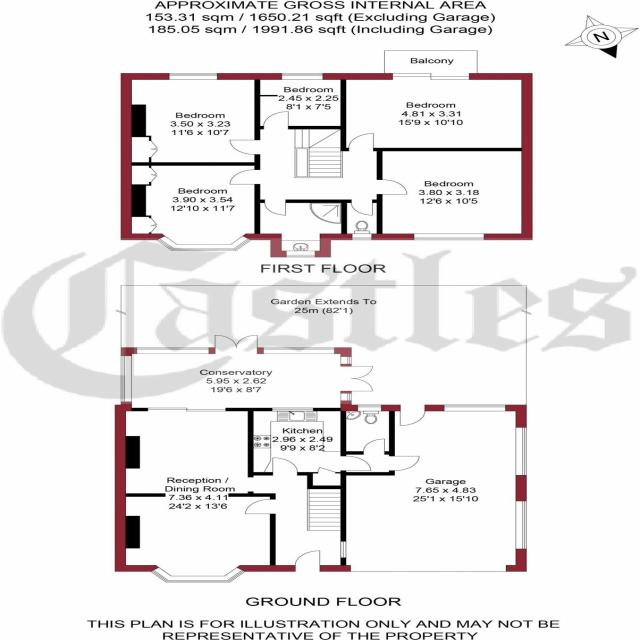DOOR: (398, 404, 429, 427), (293, 550, 322, 573), (227, 138, 262, 157), (374, 178, 409, 196), (227, 168, 262, 185), (262, 110, 291, 130), (339, 455, 373, 472), (243, 498, 277, 515), (387, 455, 421, 472), (348, 132, 376, 152), (272, 456, 299, 476), (348, 198, 375, 217), (263, 198, 288, 217), (361, 438, 387, 455), (317, 466, 338, 475)
ROOM: (113, 407, 277, 584), (339, 73, 534, 153), (375, 147, 535, 241), (117, 161, 262, 252), (120, 73, 261, 166), (247, 407, 348, 476), (254, 73, 347, 130)
WINDOW: (513, 426, 529, 477), (133, 345, 212, 355), (119, 354, 134, 403), (259, 346, 339, 355), (514, 501, 528, 550), (170, 243, 238, 252), (412, 233, 486, 241), (164, 575, 231, 583), (442, 404, 508, 412), (166, 73, 220, 81), (229, 235, 253, 252), (223, 566, 247, 583), (155, 235, 178, 252), (149, 567, 173, 583), (280, 73, 326, 81), (284, 250, 318, 259), (271, 407, 314, 412), (357, 404, 383, 412), (351, 233, 373, 241), (339, 541, 347, 558), (339, 392, 352, 402), (339, 355, 353, 364)
